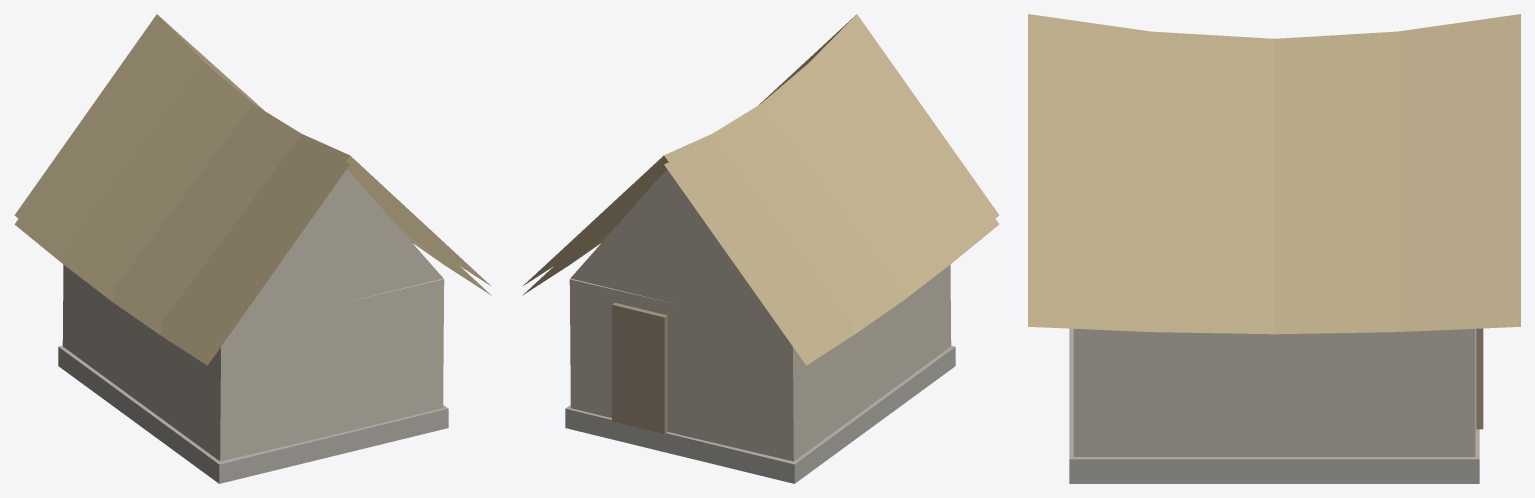
The model's file is house_hovel_a_lod1.glb.
The picture shows the model from 3 angles, left to right: view 1: azimuth 30°, elevation 25°; view 2: azimuth 150°, elevation 25°; view 3: azimuth 270°, elevation 25°; orthographic projection. The views are drawn at different scales.
Visible parts, largest first — view 1: house_hovel_a_lod1; view 2: house_hovel_a_lod1; view 3: house_hovel_a_lod1.
Boxes of the visible parts, bbox=[...] form: house_hovel_a_lod1: bbox=[14, 14, 491, 483]; house_hovel_a_lod1: bbox=[522, 14, 999, 483]; house_hovel_a_lod1: bbox=[1028, 14, 1520, 483].
Size of the model in its own units: 4.6 by 4.82 by 5.4.
